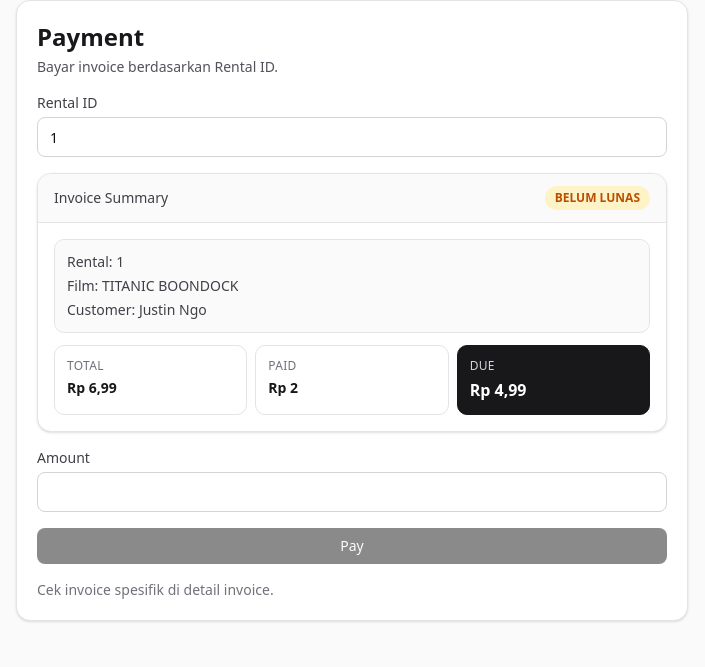
Test: Payments page › shows a clear success message when invoice becomes fully paid
Type "4.99" into the number field labelled "Amount" at {"x": 352, "y": 492}, box [37, 472, 667, 512]
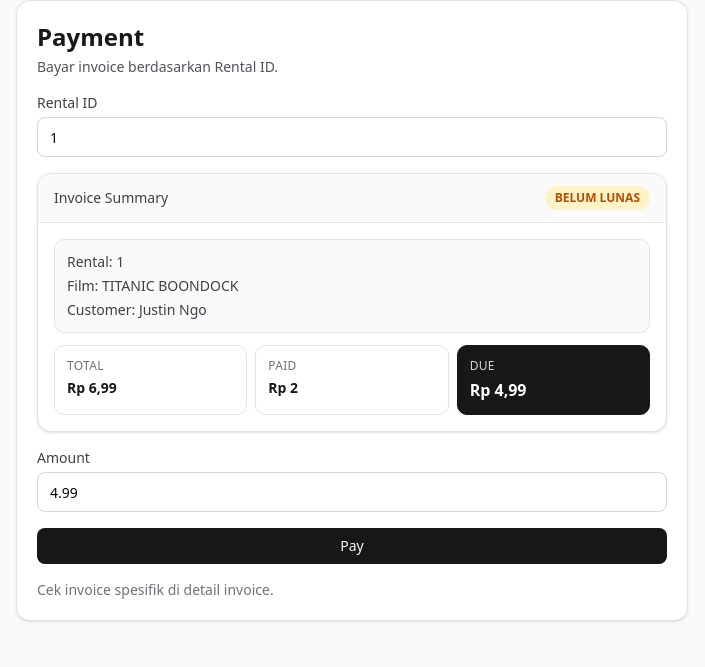
Click the button "Pay" at {"x": 352, "y": 546}, box [37, 528, 667, 564]
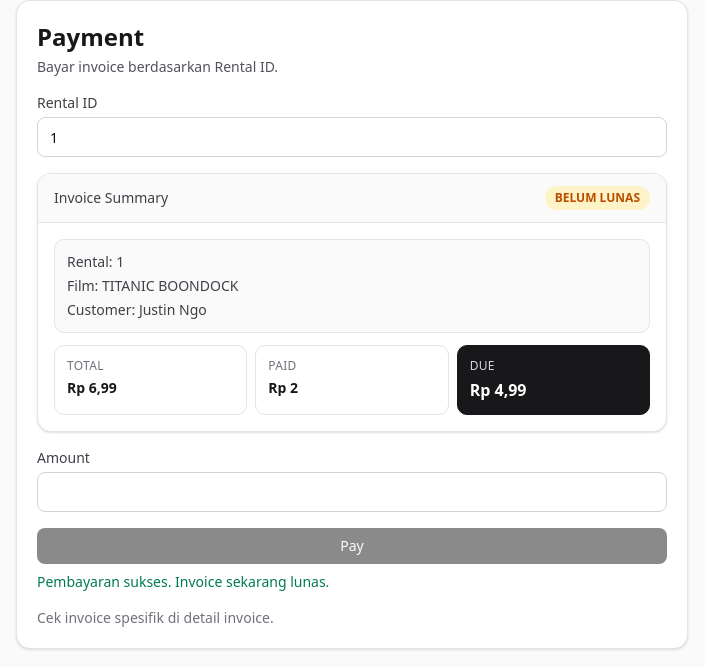
Now the text "Pembayaran sukses. Invoice sekarang lunas." is shown, box [37, 572, 329, 591]
